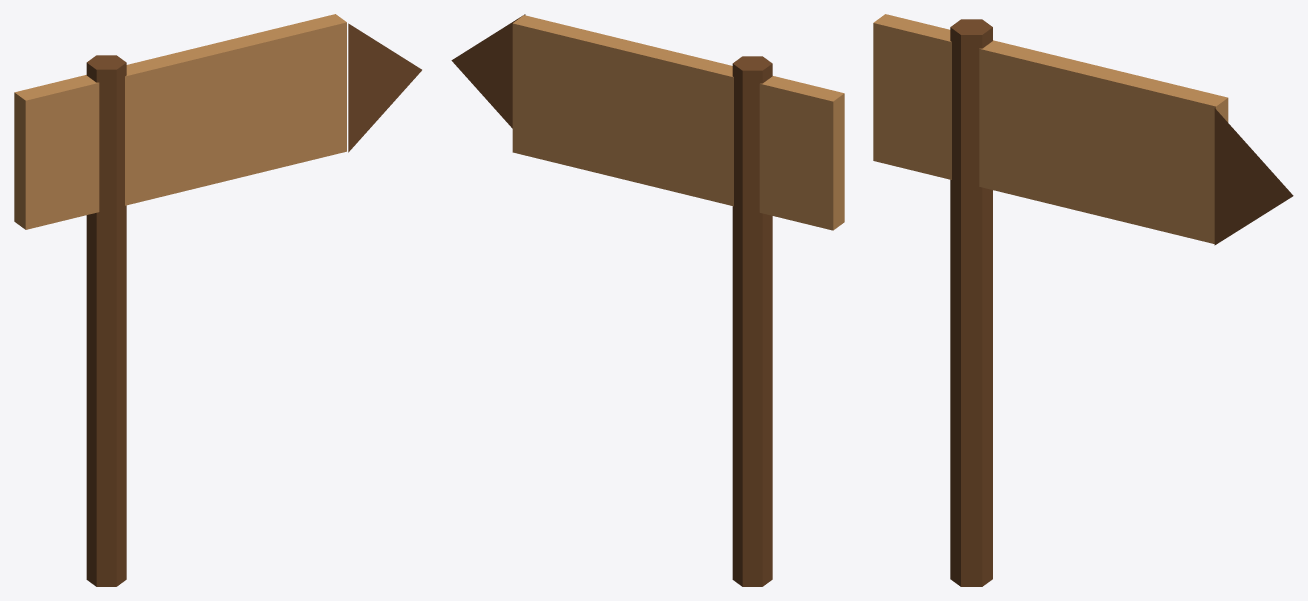
File: cartel_bosque.glb
3 renders of one model, left to right at view 1: azimuth 30°, elevation 25°; view 2: azimuth 150°, elevation 25°; view 3: azimuth 330°, elevation 25°, orthographic. The views are drawn at different scales.
Parts seen in each view (by area): view 1: cartel_bosque_tabla, cartel_bosque_poste, cartel_bosque_flecha; view 2: cartel_bosque_tabla, cartel_bosque_poste, cartel_bosque_flecha; view 3: cartel_bosque_tabla, cartel_bosque_poste, cartel_bosque_flecha.
Boxes of the visible parts, bbox=[...] form: cartel_bosque_tabla: bbox=[14, 14, 346, 229]; cartel_bosque_poste: bbox=[86, 55, 126, 586]; cartel_bosque_flecha: bbox=[348, 23, 421, 152]; cartel_bosque_tabla: bbox=[512, 15, 844, 230]; cartel_bosque_poste: bbox=[732, 56, 772, 586]; cartel_bosque_flecha: bbox=[451, 14, 525, 128]; cartel_bosque_tabla: bbox=[873, 14, 1228, 243]; cartel_bosque_poste: bbox=[950, 19, 992, 586]; cartel_bosque_flecha: bbox=[1214, 108, 1293, 245].
Bounding box in the file's own units: 1.6 × 2 × 0.14.
